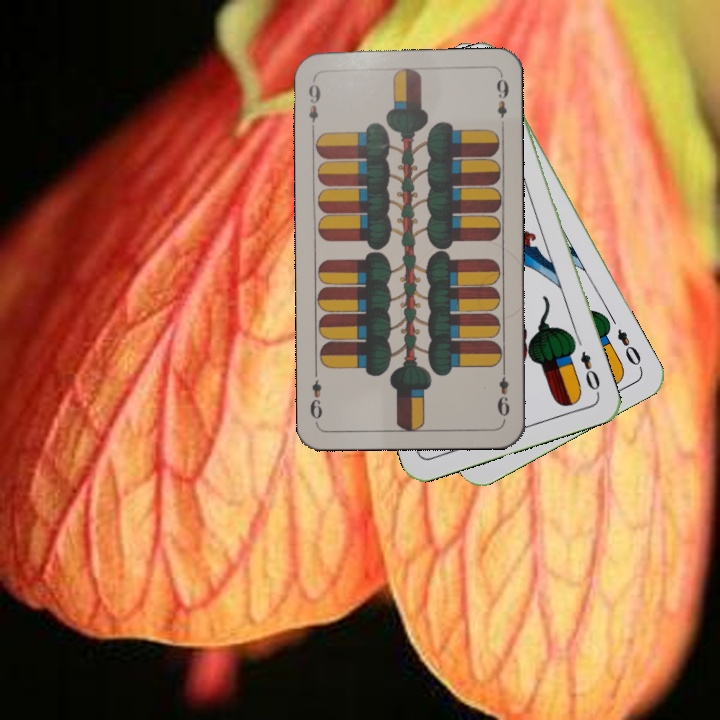E9: (493, 363, 513, 422), (304, 75, 323, 134)
EO: (612, 324, 645, 372), (576, 347, 603, 398)
